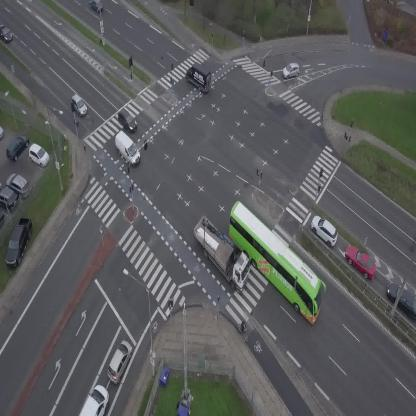bicycle: (237, 320, 249, 343)
bus: (210, 199, 339, 326)
car: (340, 240, 382, 284), (102, 338, 137, 386), (306, 211, 344, 249), (79, 382, 115, 416), (114, 107, 141, 134), (66, 93, 90, 119), (280, 61, 301, 80), (0, 22, 15, 44), (89, 0, 103, 13)
lorry: (183, 211, 261, 295), (108, 129, 146, 168), (180, 59, 219, 95)
